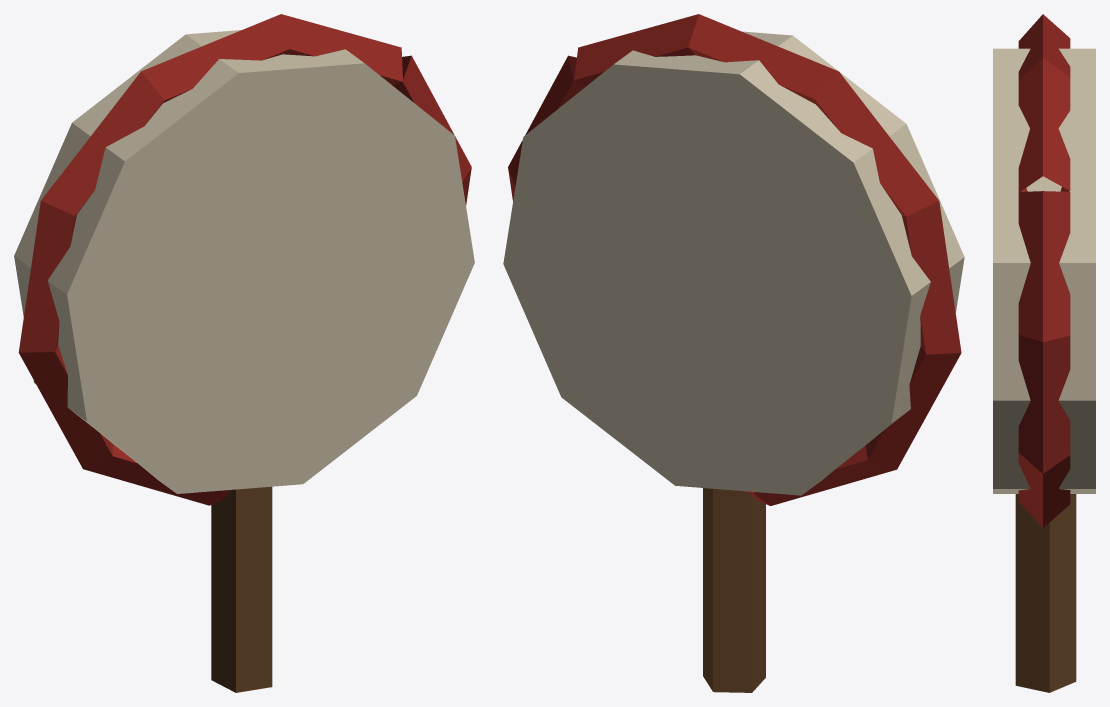
File: gear_drum.glb
3 views of the same model, side by side, from view 1: azimuth 30°, elevation 25°; view 2: azimuth 150°, elevation 25°; view 3: azimuth 270°, elevation 25° (orthographic). The views are drawn at different scales.
Parts seen in each view (by area): view 1: gear_drum; view 2: gear_drum; view 3: gear_drum.
Part boxes in pixels (<box>): gear_drum: <box>14,14,474,692</box>; gear_drum: <box>503,14,964,692</box>; gear_drum: <box>993,14,1095,692</box>.
Bounding box in the file's own units: 0.237 × 0.3285 × 0.048.
